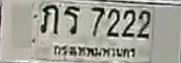2: (136, 9, 150, 37), (121, 9, 135, 36), (106, 8, 119, 36)
7: (90, 6, 103, 36)
A32: (39, 4, 58, 32)
A35: (63, 4, 79, 34)
BKK: (51, 43, 137, 60)
